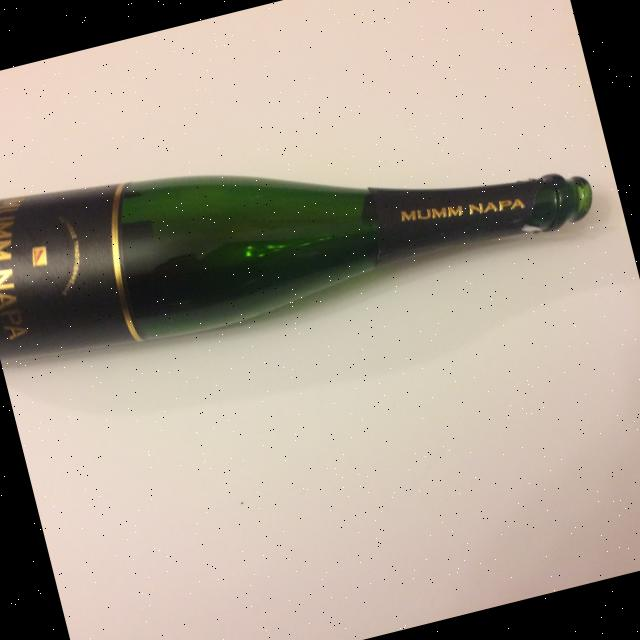glass: (0, 53, 602, 382)
